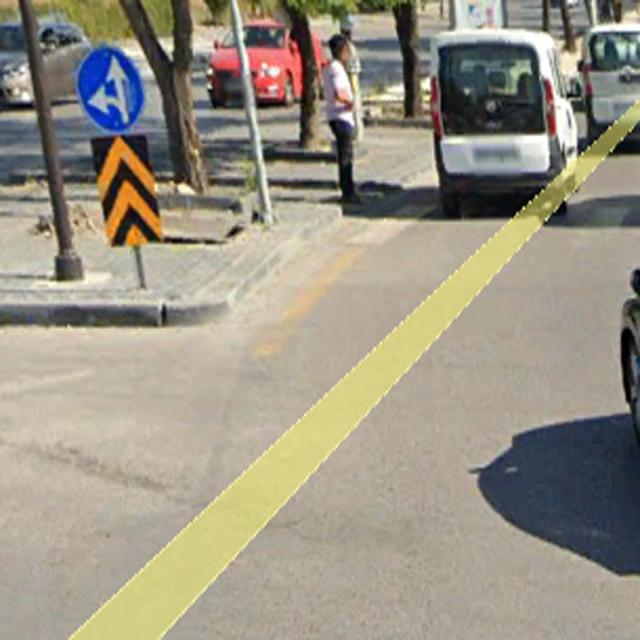ilerisol: (75, 45, 145, 132)
